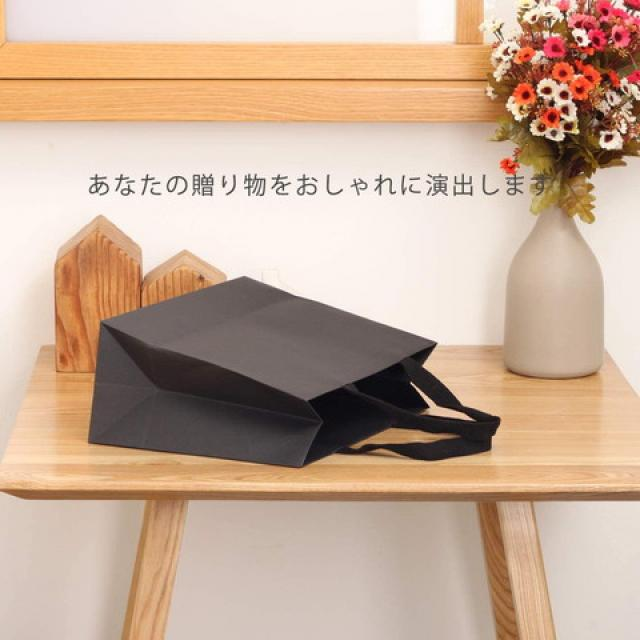paper bag: (82, 272, 500, 470)
